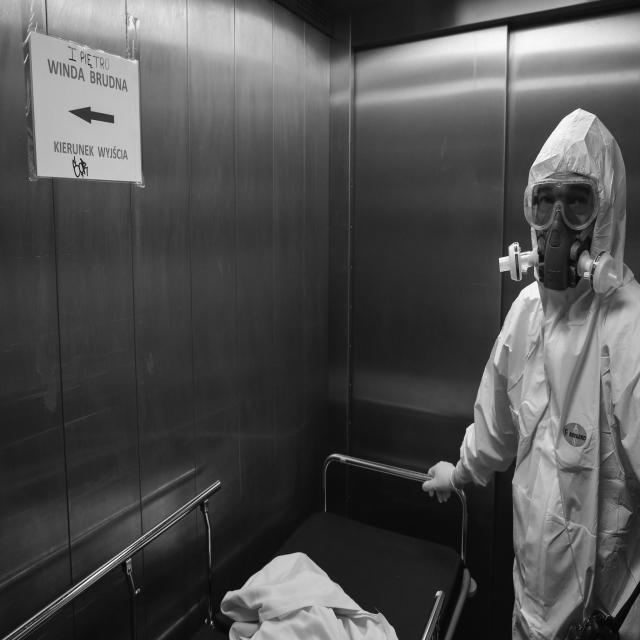Gloves: (423, 456, 459, 509)
Goggles: (520, 175, 599, 233)
Mask: (497, 209, 622, 300)
